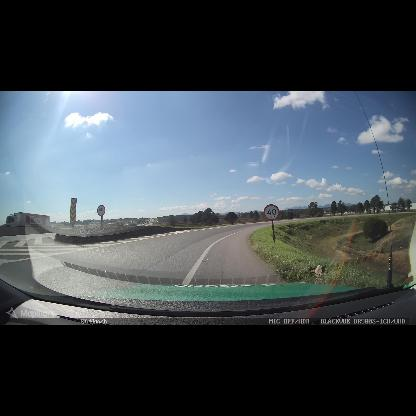O-MP: (70, 198, 77, 223)
R-19: (263, 204, 280, 221), (97, 205, 106, 216)
